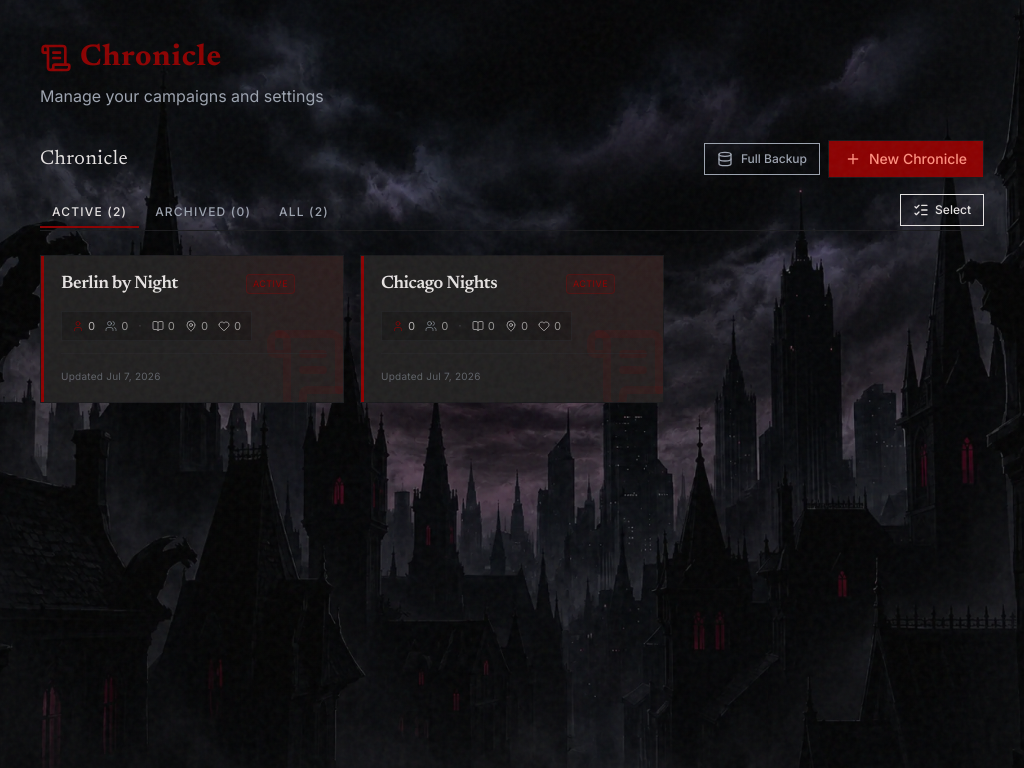
it: Chronicle list — bulk selection (Batch AB) › enters selection mode and reports the selected count
Click the button "Select": click(942, 210) 900,194 -> 984,226
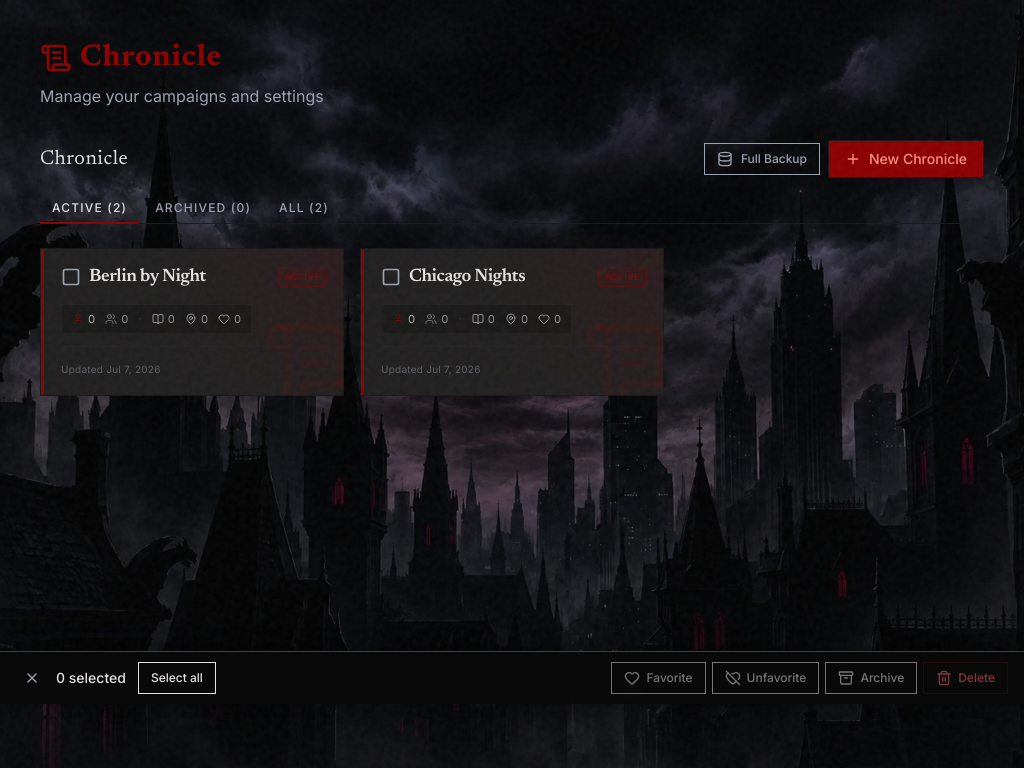
Expected: the text "0 selected" is shown, 56,668 -> 126,688
Expected: the button "Delete" is disabled, 923,662 -> 1008,694
Click the button "Select all": click(177, 678) 138,662 -> 216,694
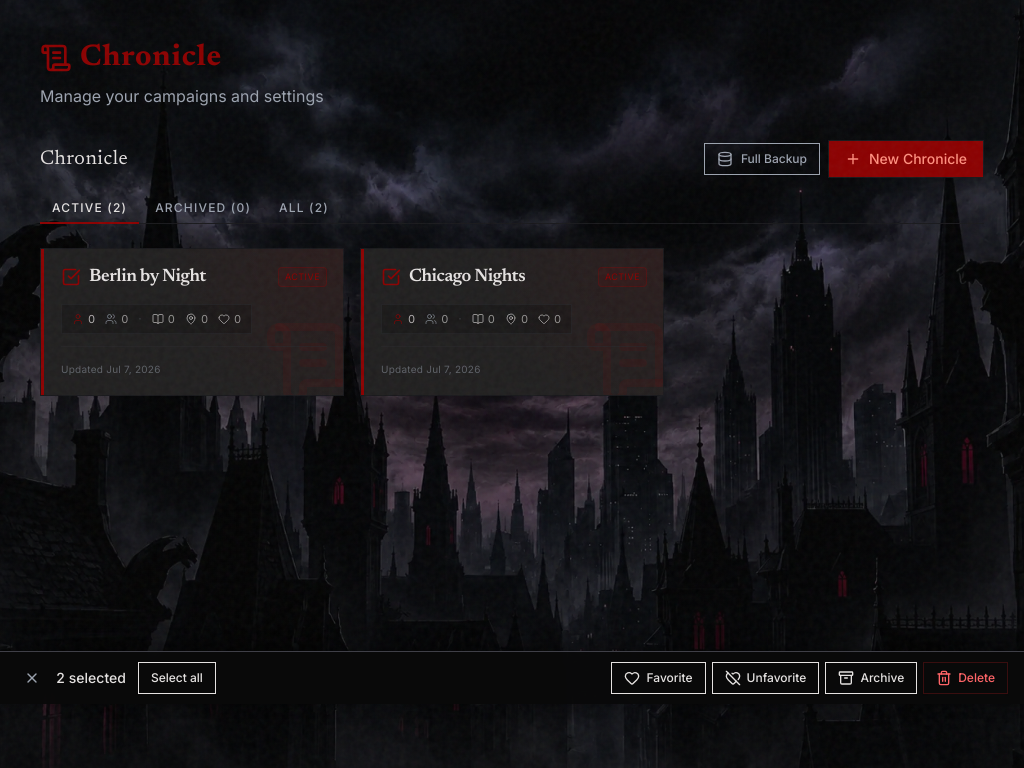
Expected: the text "2 selected" is shown, 56,668 -> 126,688
